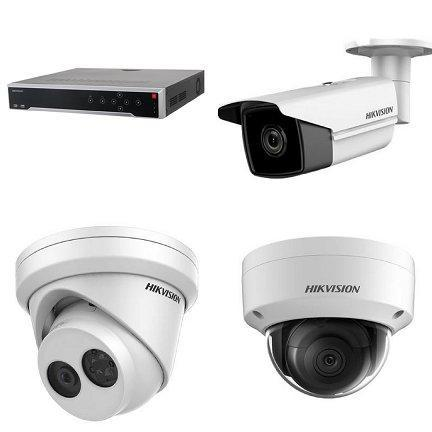CCTV: (14, 226, 201, 423), (219, 42, 426, 181), (241, 237, 416, 398)
